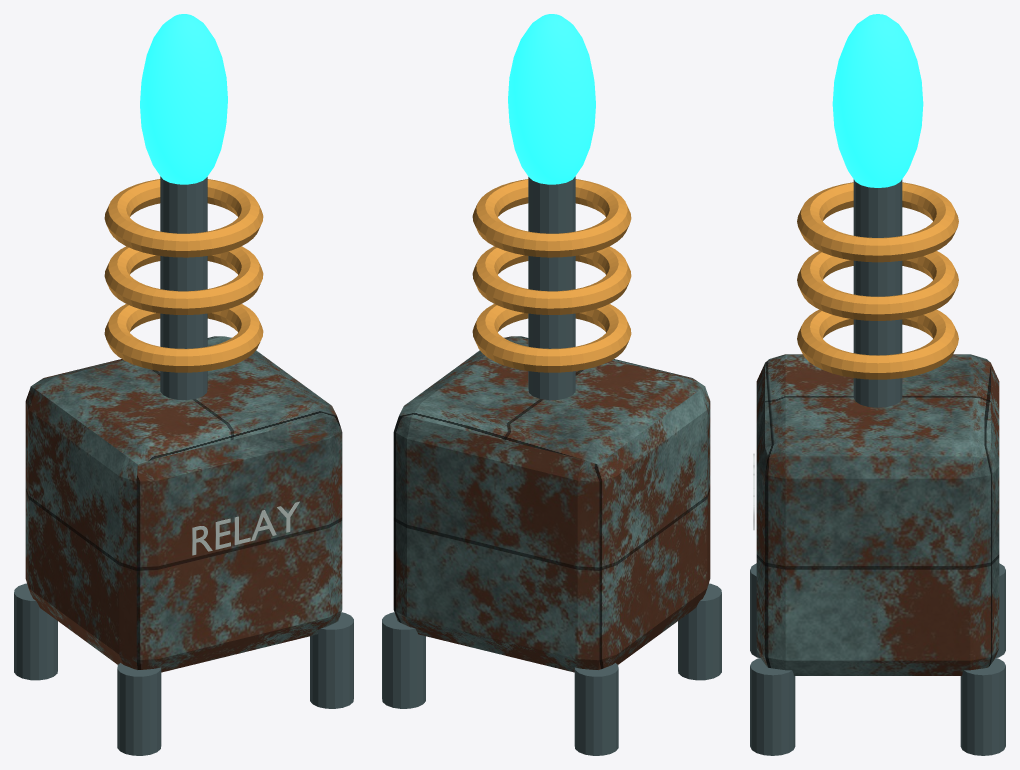
File: relay.glb
3 renders of one model, left to right at view 1: azimuth 30°, elevation 25°; view 2: azimuth 150°, elevation 25°; view 3: azimuth 270°, elevation 25°, orthographic.
Visible parts, largest first — view 1: relay_Hull, relay_Safety ochre, relay_Titanium, relay_Bio, relay_Ceramic; view 2: relay_Hull, relay_Safety ochre, relay_Titanium, relay_Bio; view 3: relay_Hull, relay_Safety ochre, relay_Titanium, relay_Bio.
Boxes of the visible parts, x1,y1,x2,y2 form: relay_Hull: (25, 336, 342, 672); relay_Safety ochre: (104, 179, 263, 372); relay_Titanium: (14, 176, 353, 755); relay_Bio: (140, 14, 227, 184); relay_Ceramic: (192, 501, 299, 555); relay_Hull: (393, 336, 710, 672); relay_Safety ochre: (472, 179, 631, 372); relay_Titanium: (382, 176, 721, 755); relay_Bio: (508, 14, 595, 184); relay_Hull: (756, 354, 999, 675); relay_Safety ochre: (797, 182, 958, 379); relay_Titanium: (750, 179, 1005, 755); relay_Bio: (832, 14, 923, 187).
Bounding box in the file's own units: 1.68 × 4.65 × 1.58.
Materials: 5 (1 with a texture image).
